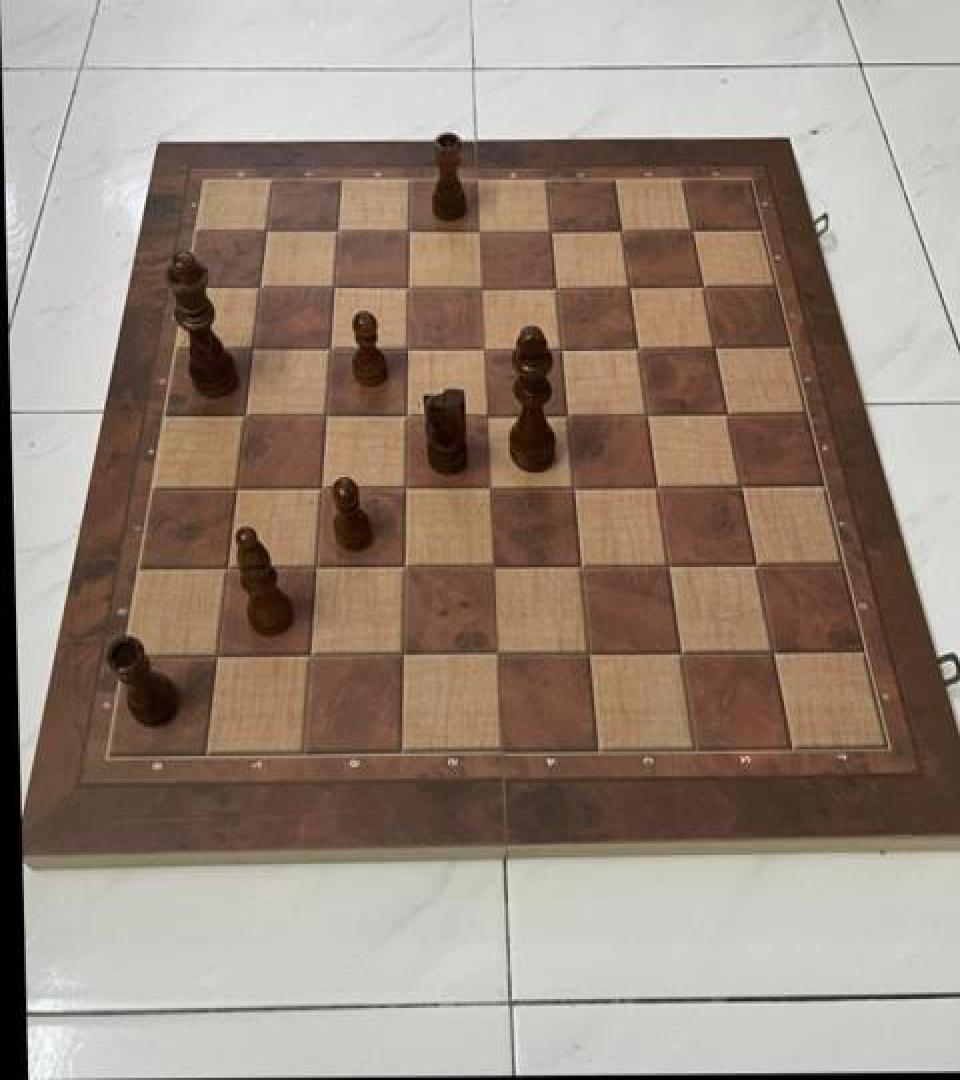xcorner: (250, 212, 282, 248), (322, 212, 354, 248), (393, 212, 425, 248), (464, 212, 496, 248), (244, 268, 276, 304), (318, 269, 350, 305), (392, 269, 424, 305), (466, 269, 498, 305), (540, 269, 572, 305), (613, 269, 645, 305), (686, 269, 718, 305), (237, 330, 269, 366), (314, 330, 346, 366), (391, 330, 423, 366), (468, 330, 500, 366), (545, 330, 577, 366), (621, 330, 653, 366), (698, 330, 730, 366), (229, 397, 261, 433), (310, 397, 342, 433), (391, 397, 423, 433), (471, 396, 503, 432), (551, 396, 583, 432), (631, 396, 663, 432), (710, 396, 742, 432), (221, 470, 253, 506), (306, 469, 338, 505), (390, 469, 422, 505), (474, 469, 506, 505), (557, 469, 589, 505), (641, 469, 673, 505), (724, 468, 756, 504), (212, 550, 244, 586), (301, 549, 333, 585), (389, 549, 421, 585), (477, 549, 509, 585), (564, 548, 596, 584), (652, 548, 684, 584), (738, 548, 770, 584), (202, 638, 234, 674), (295, 637, 327, 673), (388, 637, 420, 673), (480, 636, 512, 672), (572, 636, 604, 672), (664, 634, 696, 670), (755, 634, 787, 670), (535, 213, 567, 248), (605, 213, 637, 248), (676, 213, 708, 248)
